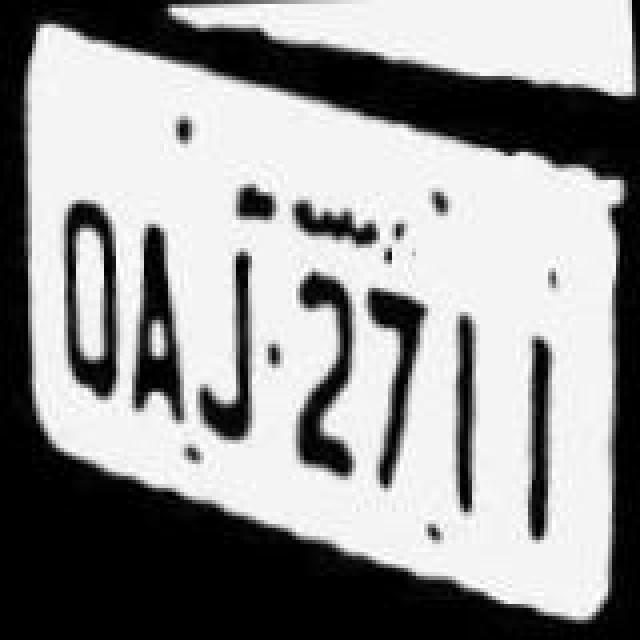1: (504, 302, 572, 554), (438, 266, 502, 526)
2: (280, 258, 372, 506)
7: (356, 272, 440, 520)
A: (108, 178, 188, 442)
J: (178, 228, 270, 448)
O: (42, 164, 126, 428)
